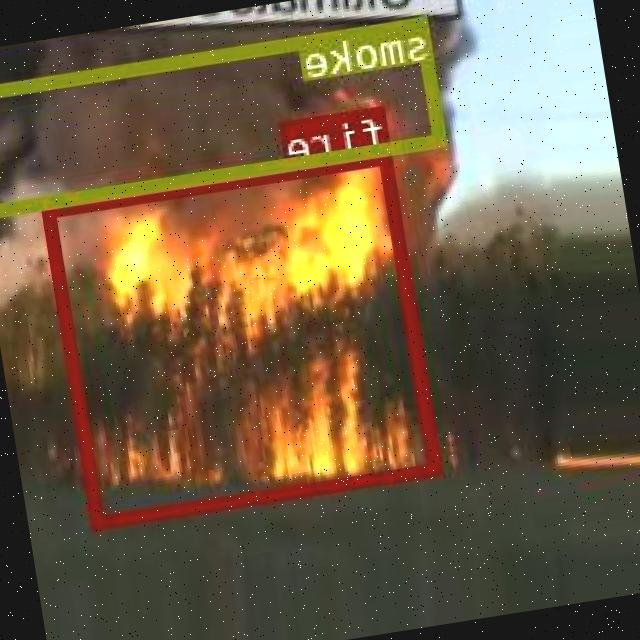fire: (44, 148, 443, 527)
smoke: (0, 13, 450, 214)
